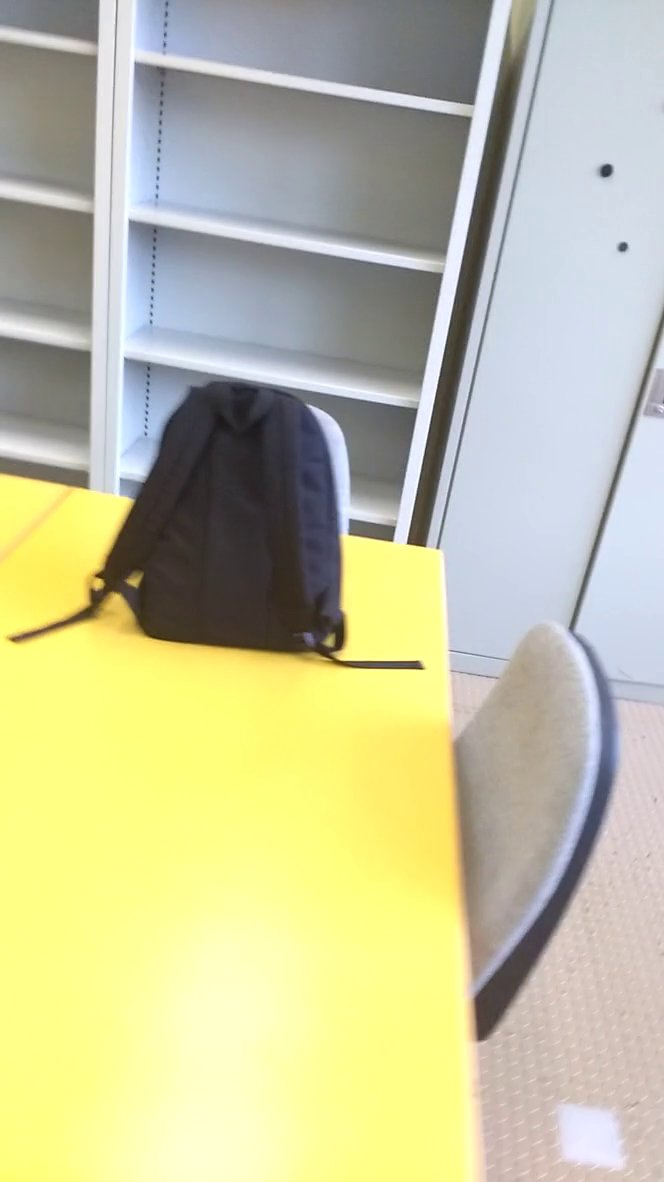bag: (5, 376, 429, 674)
chair: (444, 609, 635, 1086)
